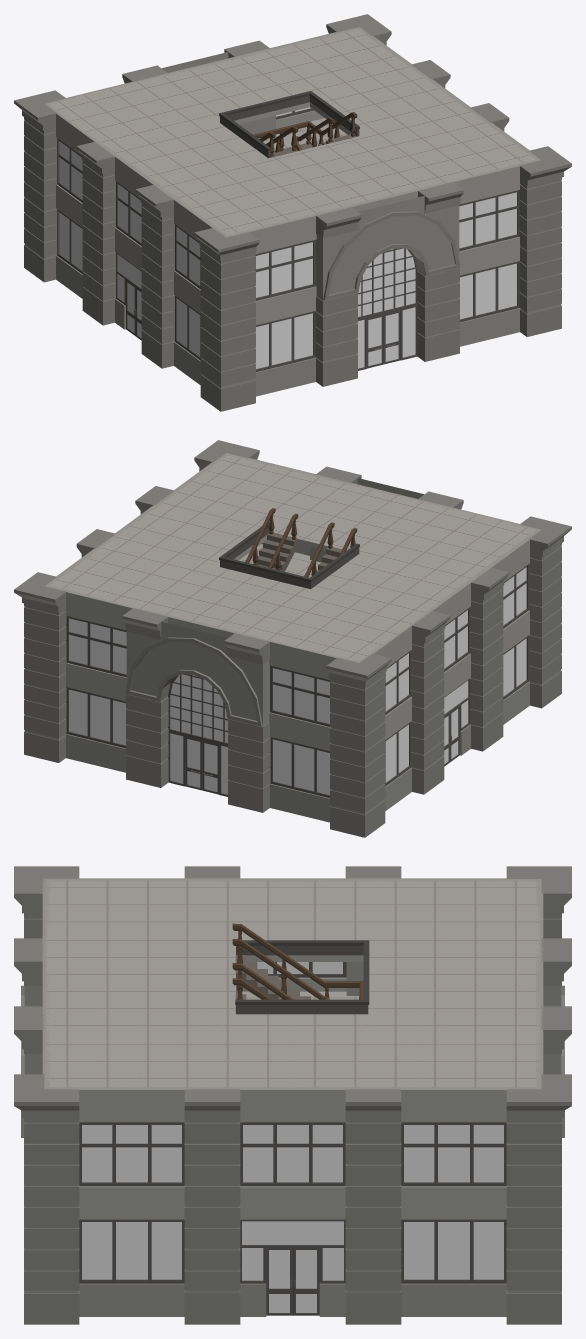
File: SM_Bldg_City_High-Rise_02_Base.fbx
The picture shows the model from 3 angles, top to bottom: view 1: azimuth 30°, elevation 25°; view 2: azimuth 150°, elevation 25°; view 3: azimuth 270°, elevation 25°; orthographic projection. The views are drawn at different scales.
Visible parts, largest first — view 1: SM_Bldg_City_High-Rise_02_Base, SM_Bldg_City_High-Rise_02_Base_Glass; view 2: SM_Bldg_City_High-Rise_02_Base, SM_Bldg_City_High-Rise_02_Base_Glass; view 3: SM_Bldg_City_High-Rise_02_Base, SM_Bldg_City_High-Rise_02_Base_Glass.
Part boxes in pixels (x1,y1,x2,y2): SM_Bldg_City_High-Rise_02_Base: (14, 14, 571, 411); SM_Bldg_City_High-Rise_02_Base_Glass: (59, 107, 516, 368); SM_Bldg_City_High-Rise_02_Base: (14, 440, 571, 837); SM_Bldg_City_High-Rise_02_Base_Glass: (69, 567, 526, 794); SM_Bldg_City_High-Rise_02_Base: (14, 866, 571, 1324); SM_Bldg_City_High-Rise_02_Base_Glass: (82, 962, 503, 1280).
Bounding box in the file's own units: 1560 × 800 × 1560.
